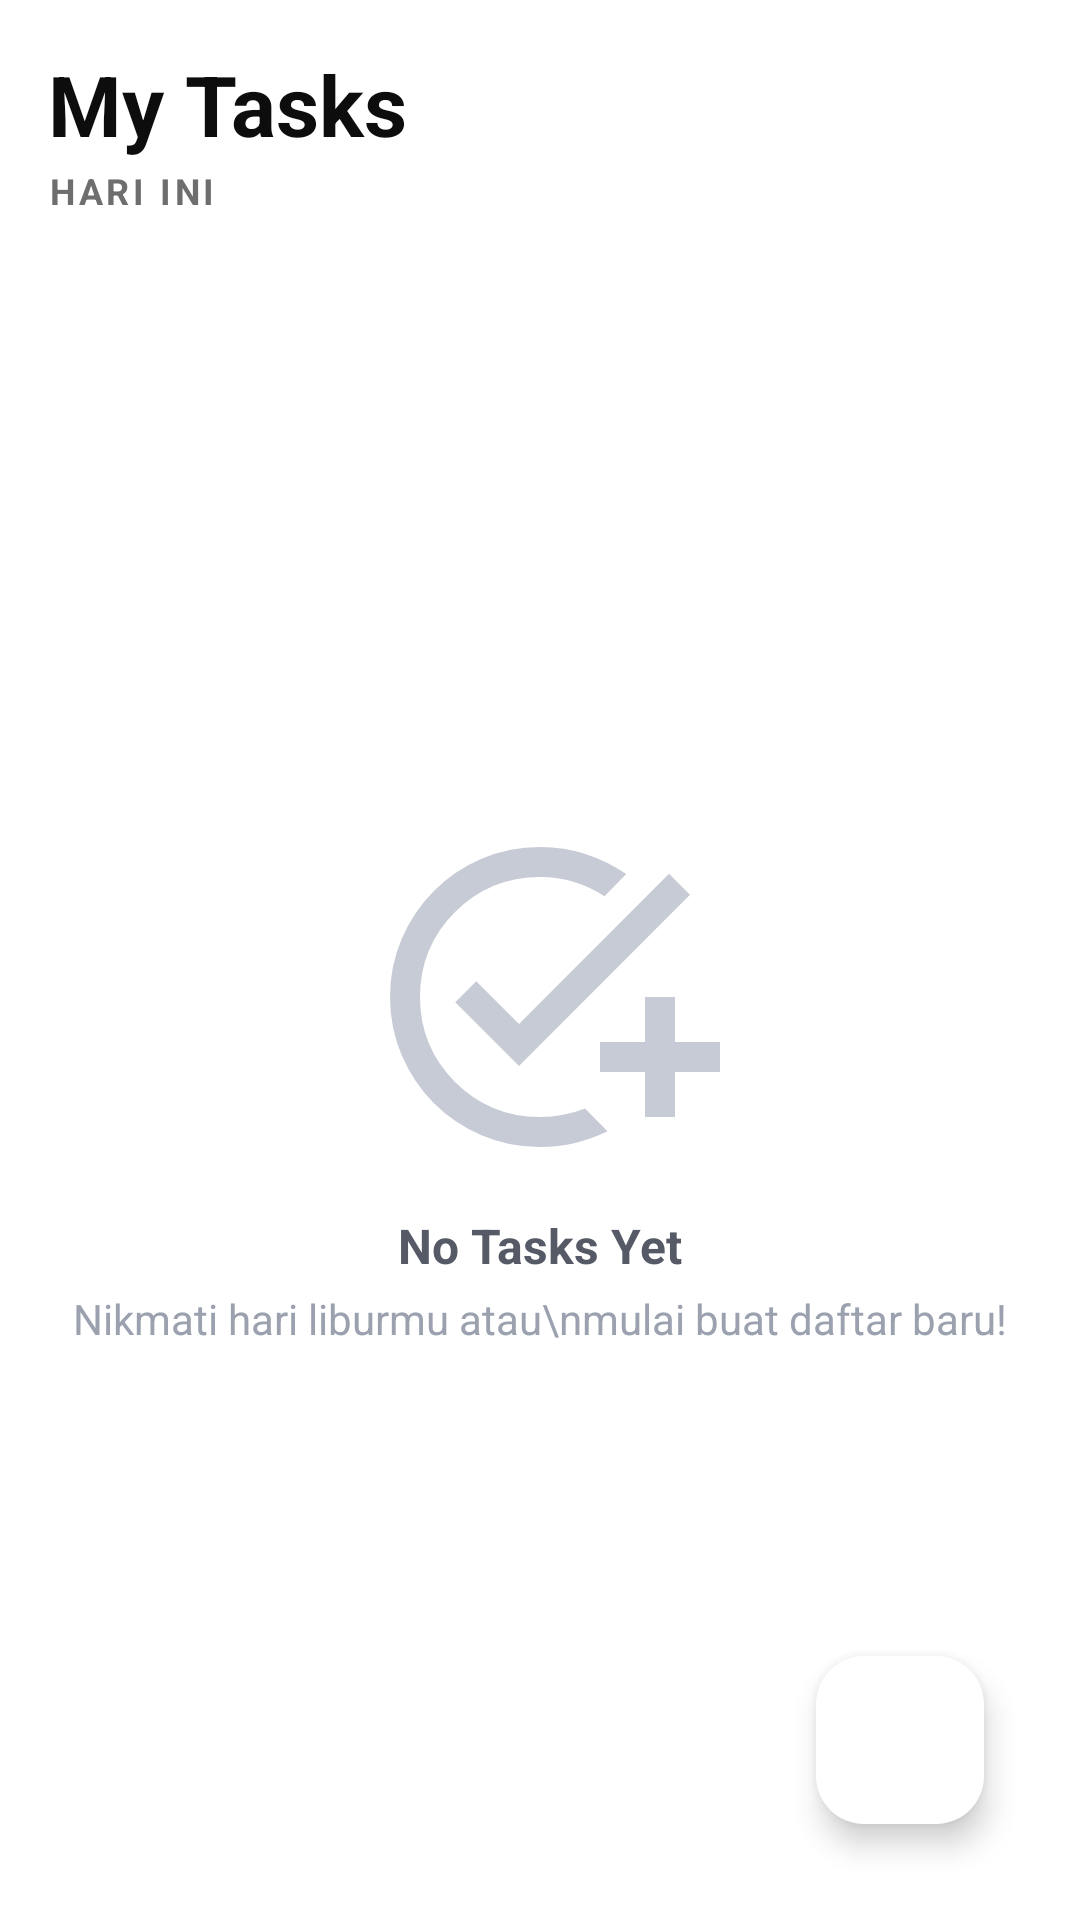

Screen size 1080 × 1920. Icon name, then its box in pixels as bbox=[x1, y1, x2, y2]:
add task: bbox=[390, 847, 720, 1147]
